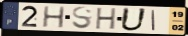2: (21, 5, 39, 28)
H: (41, 5, 67, 29), (95, 8, 118, 31)
I: (151, 9, 157, 32)
S: (71, 6, 94, 31)
U: (119, 7, 149, 33)
